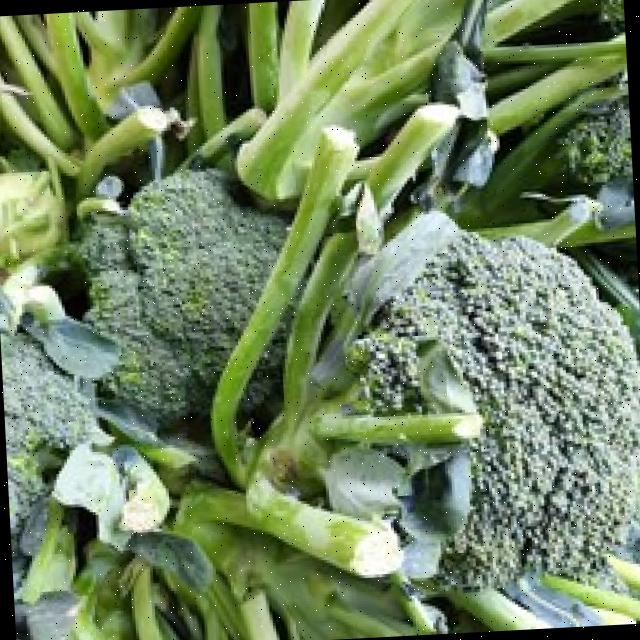Broccoli: (357, 234, 640, 585), (359, 234, 640, 584), (81, 170, 286, 427), (81, 170, 286, 426)
